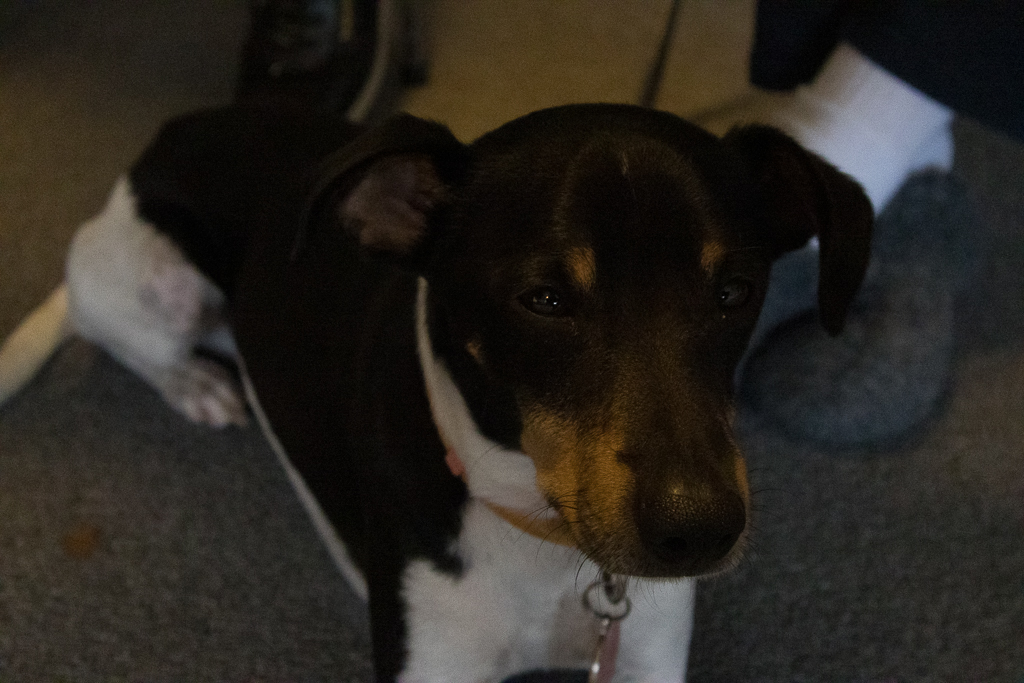Dog: (0, 49, 900, 683)
Humanoid: (598, 0, 1024, 474), (202, 0, 452, 154)
